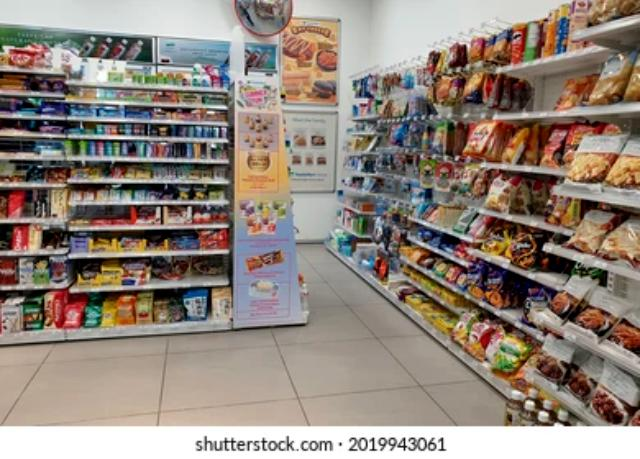background: (0, 0, 640, 428)
